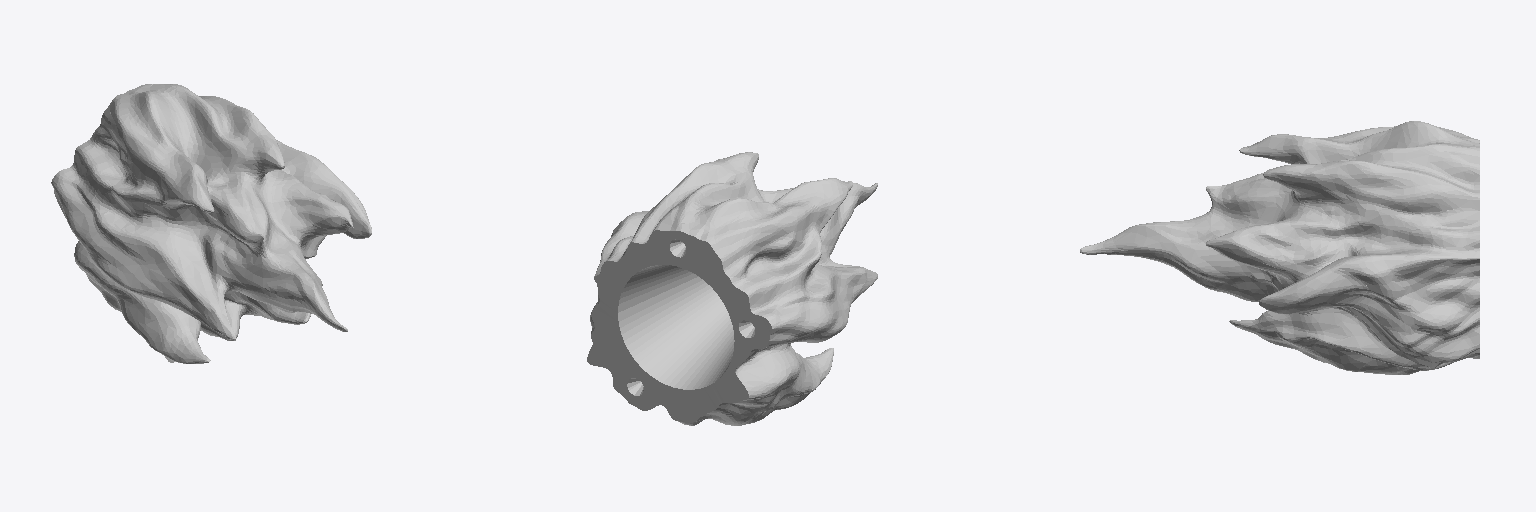
File: flame.obj
The picture shows the model from 3 angles: view 1: azimuth 30°, elevation 25°; view 2: azimuth 150°, elevation 25°; view 3: azimuth 270°, elevation 25°; orthographic projection.
Parts seen in each view (by area): view 1: YELLOW-flame-tree-top; view 2: YELLOW-flame-tree-top; view 3: YELLOW-flame-tree-top.
Part boxes in pixels (left/top/right/bottom): YELLOW-flame-tree-top: left=51, top=84, right=371, bottom=363; YELLOW-flame-tree-top: left=587, top=152, right=877, bottom=425; YELLOW-flame-tree-top: left=1080, top=121, right=1479, bottom=374.
Bounding box in the file's own units: 0.9431 × 0.9009 × 1.4.